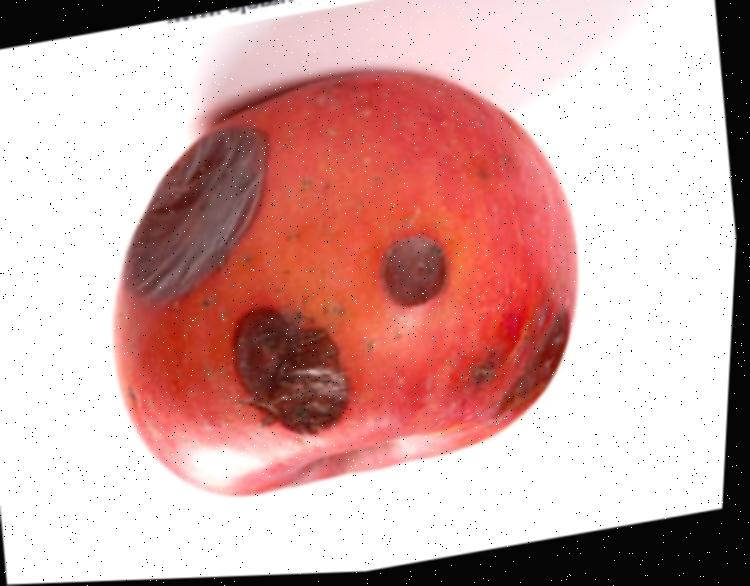ROT: (53, 32, 623, 546)
